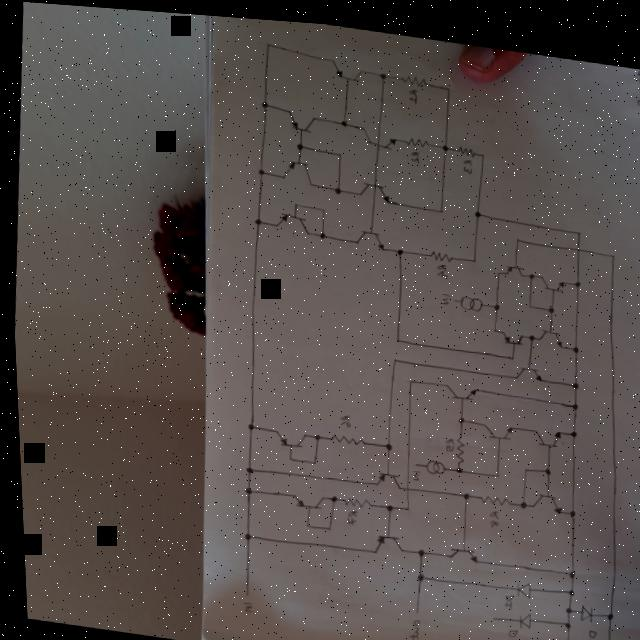crossover: (398, 479, 405, 486), (572, 237, 578, 244)
diode: (507, 571, 527, 591), (509, 601, 527, 621), (572, 594, 588, 616)
junction: (454, 483, 465, 495), (236, 526, 247, 537), (409, 564, 419, 576), (237, 481, 247, 492), (560, 560, 570, 571), (556, 610, 565, 622), (253, 162, 263, 172), (537, 457, 547, 467), (376, 64, 386, 74), (307, 427, 317, 437), (448, 458, 458, 468), (557, 596, 567, 606), (330, 179, 339, 190), (241, 417, 250, 427), (470, 201, 479, 211), (239, 461, 248, 471), (249, 212, 259, 221), (378, 435, 387, 445), (565, 371, 575, 380), (262, 35, 271, 45), (314, 225, 324, 234), (560, 578, 569, 588), (452, 408, 461, 418), (258, 95, 267, 104), (379, 497, 388, 506), (391, 241, 400, 250), (438, 136, 447, 145), (598, 602, 607, 611), (410, 541, 419, 550), (543, 296, 552, 305), (569, 270, 578, 279), (512, 492, 521, 501), (488, 294, 497, 302), (337, 113, 346, 121), (567, 335, 575, 344), (562, 500, 570, 509), (565, 420, 573, 428), (566, 393, 574, 401), (297, 516, 305, 524), (293, 137, 301, 145), (324, 490, 332, 497), (443, 78, 450, 85), (524, 325, 531, 332), (387, 350, 393, 357), (607, 242, 613, 249), (468, 249, 474, 256), (306, 454, 312, 461), (281, 451, 288, 457), (391, 331, 397, 337), (572, 220, 578, 226), (334, 146, 340, 152), (511, 228, 517, 234), (434, 201, 440, 207), (403, 371, 409, 377), (517, 458, 523, 464), (399, 499, 405, 505), (320, 520, 326, 526), (488, 464, 494, 470), (522, 294, 528, 300), (525, 264, 531, 270), (505, 347, 511, 352), (488, 320, 492, 324), (492, 263, 496, 267), (291, 198, 295, 202), (318, 202, 322, 206), (478, 145, 482, 149)
resistor: (324, 426, 361, 442), (334, 488, 366, 504), (472, 485, 505, 500), (396, 66, 426, 81), (400, 129, 429, 142), (448, 427, 461, 455), (426, 242, 451, 256), (454, 137, 473, 150)
terminal: (407, 602, 413, 608), (237, 587, 243, 593), (558, 628, 564, 634), (483, 609, 489, 614), (599, 626, 604, 632), (407, 455, 413, 460), (447, 291, 453, 295)
text: (400, 612, 415, 637), (499, 619, 512, 640), (339, 502, 353, 520), (431, 255, 446, 271), (457, 150, 471, 167), (482, 501, 494, 520), (580, 620, 592, 638), (495, 584, 507, 602), (439, 429, 451, 447), (405, 81, 417, 98), (334, 408, 347, 422), (407, 142, 418, 158), (436, 284, 448, 298), (235, 596, 246, 610), (405, 462, 416, 474), (555, 635, 566, 640)
transformer: (455, 286, 480, 305), (419, 452, 440, 468)
transistor: (352, 171, 392, 200), (278, 152, 313, 182), (283, 103, 320, 131), (358, 121, 396, 146), (328, 53, 363, 79), (350, 219, 384, 245), (366, 525, 398, 551), (268, 423, 302, 447), (271, 207, 307, 229), (525, 482, 557, 506), (439, 376, 477, 396), (477, 414, 511, 436), (440, 537, 474, 558), (287, 486, 321, 506), (368, 463, 398, 485), (527, 419, 557, 440), (509, 354, 540, 374), (534, 318, 559, 340), (535, 266, 563, 285), (496, 322, 522, 339), (501, 255, 523, 269)
